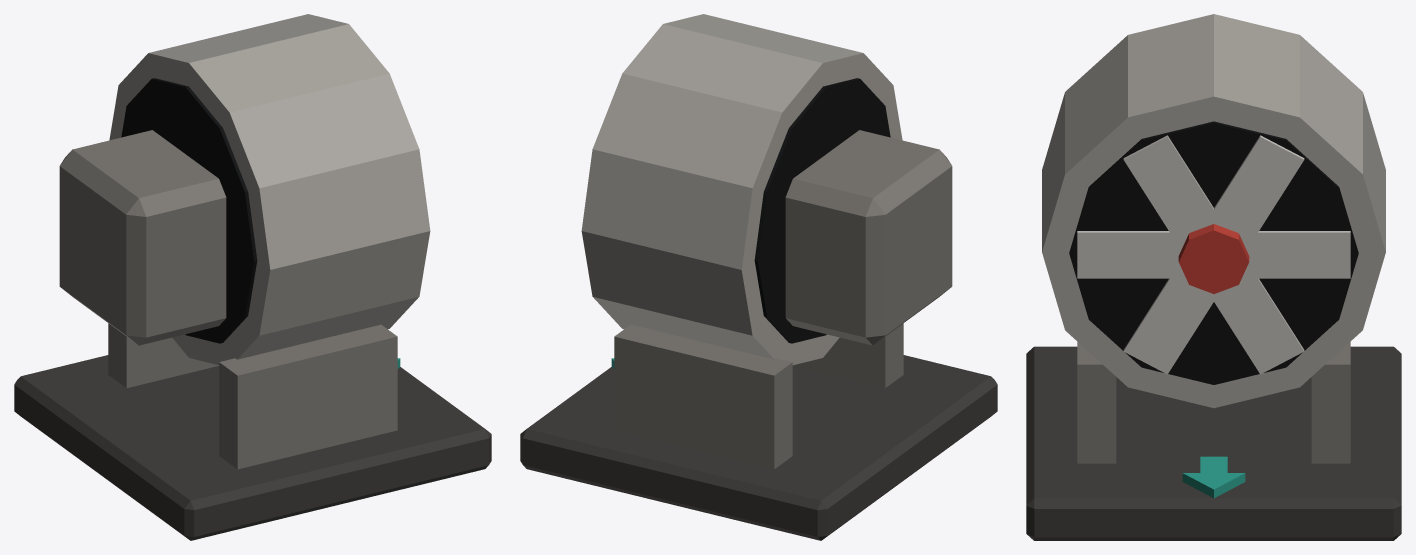
File: blower.fbx
3 renders of one model, left to right at view 1: azimuth 30°, elevation 25°; view 2: azimuth 150°, elevation 25°; view 3: azimuth 270°, elevation 25°, orthographic. The views are drawn at different scales.
Visible parts, largest first — view 1: blower; view 2: blower; view 3: blower.
Part boxes in pixels (box(x1,y1,x2,y2)): blower: box(14, 14, 491, 540); blower: box(520, 14, 997, 540); blower: box(1026, 14, 1401, 540).
Bounding box in the file's own units: 2.94 × 3.54 × 2.88.
